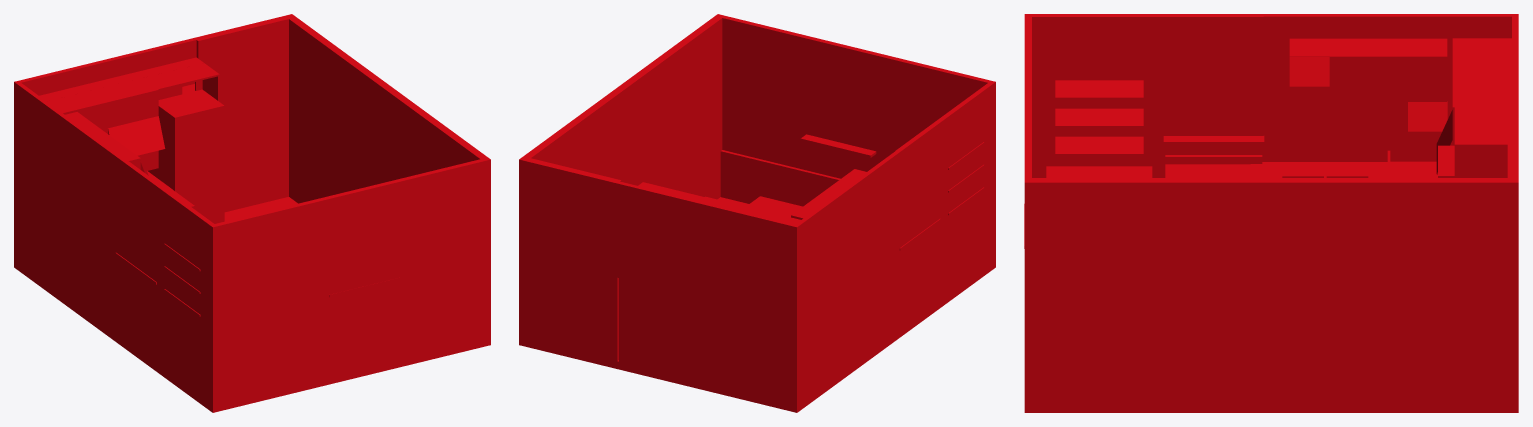
File: ENV_Kitchen_01_COLLISION_02.fbx
3 views of the same model, side by side, from view 1: azimuth 30°, elevation 25°; view 2: azimuth 150°, elevation 25°; view 3: azimuth 270°, elevation 25° (orthographic). The views are drawn at different scales.
Visible parts, largest first — view 1: vertical_col.080, vertical_col.017, vertical_col.015, vertical_col.016, vertical_col.013, col.039, col.012, vertical_col.021, col.022, col.008, col.018, vertical_col.024 (+9 smaller); view 2: vertical_col.080, vertical_col.021, vertical_col.013, vertical_col.017, vertical_col.015, col.012, col.018, vertical_col.016, col.039, col.056, vertical_col.034, col.010 (+7 smaller); view 3: vertical_col.016, col.012, vertical_col.017, vertical_col.015, vertical_col.064, col.022, col.070, col.007, col.048, col.020, vertical_col.080, vertical_col.019 (+14 smaller).
Boxes of the visible parts, left/top/right/bottom form: vertical_col.080: left=210, top=157, right=490, bottom=410; vertical_col.017: left=116, top=156, right=217, bottom=403; vertical_col.015: left=14, top=81, right=120, bottom=334; vertical_col.016: left=285, top=14, right=394, bottom=203; vertical_col.013: left=194, top=16, right=288, bottom=212; col.039: left=148, top=84, right=224, bottom=223; col.012: left=387, top=89, right=490, bottom=338; vertical_col.021: left=14, top=52, right=145, bottom=268; col.022: left=39, top=72, right=158, bottom=113; col.008: left=87, top=313, right=350, bottom=412; col.018: left=14, top=171, right=172, bottom=281; vertical_col.024: left=63, top=90, right=158, bottom=129; vertical_col.080: left=715, top=14, right=995, bottom=261; vertical_col.021: left=668, top=196, right=799, bottom=411; vertical_col.013: left=526, top=158, right=621, bottom=368; vertical_col.017: left=895, top=81, right=995, bottom=329; vertical_col.015: left=792, top=151, right=899, bottom=412; col.012: left=622, top=16, right=722, bottom=199; col.018: left=668, top=316, right=827, bottom=412; vertical_col.016: left=519, top=84, right=629, bottom=346; col.039: left=619, top=227, right=668, bottom=379; col.056: left=720, top=150, right=840, bottom=206; vertical_col.034: left=617, top=181, right=685, bottom=242; col.010: left=659, top=352, right=869, bottom=412; vertical_col.016: left=1263, top=178, right=1518, bottom=412; col.012: left=1024, top=178, right=1263, bottom=412; vertical_col.017: left=1024, top=14, right=1263, bottom=177; vertical_col.015: left=1263, top=14, right=1518, bottom=161; vertical_col.064: left=1328, top=58, right=1407, bottom=127; col.022: left=1452, top=39, right=1511, bottom=109; col.070: left=1289, top=39, right=1447, bottom=58; col.007: left=1024, top=403, right=1263, bottom=412; col.048: left=1165, top=155, right=1262, bottom=177; col.020: left=1454, top=107, right=1511, bottom=146; vertical_col.080: left=1024, top=14, right=1031, bottom=398; vertical_col.019: left=1454, top=143, right=1507, bottom=177.
Bounding box in the file's own units: 168 × 107 × 207.
